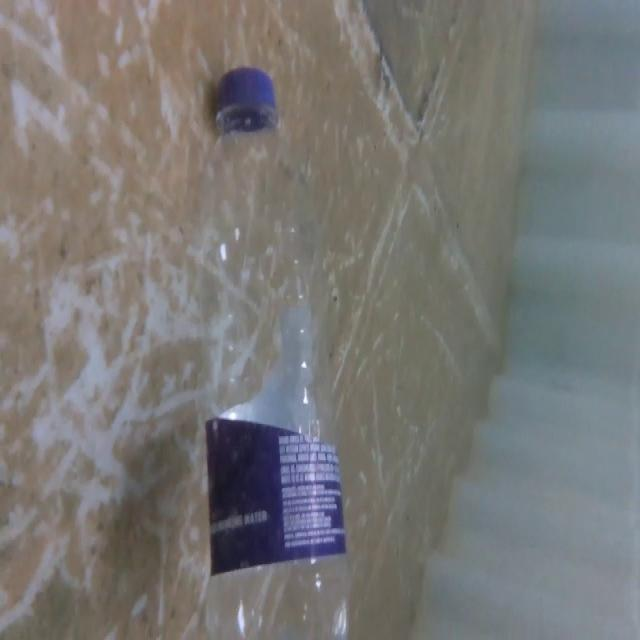plastic bottle: (194, 59, 356, 640)
